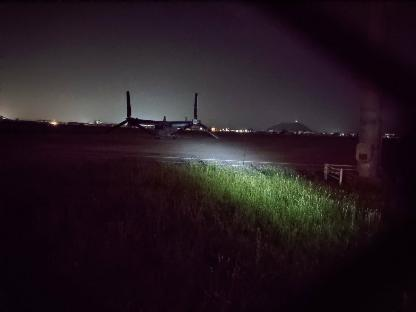Tornado: (104, 91, 218, 139)
